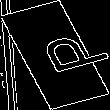P_W: (12, 29, 98, 81)
